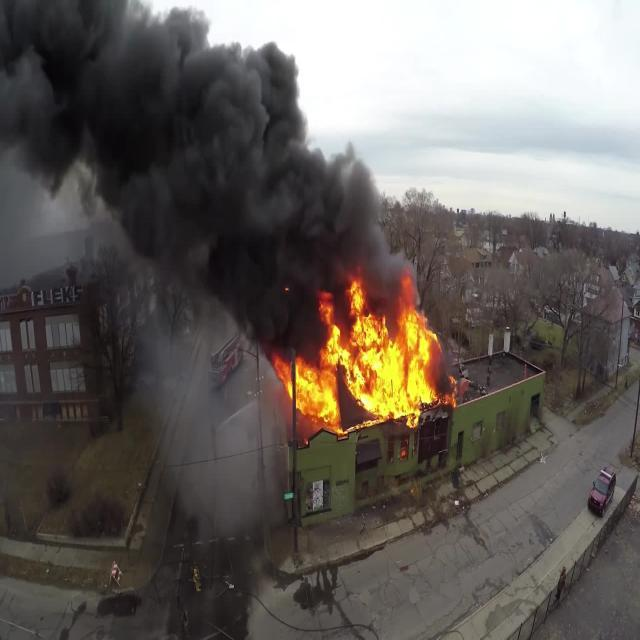Fire: (360, 336, 461, 421), (339, 278, 429, 358), (295, 339, 357, 422), (392, 438, 416, 464)
Smoke: (0, 0, 381, 231), (4, 0, 366, 220), (206, 164, 292, 328)
